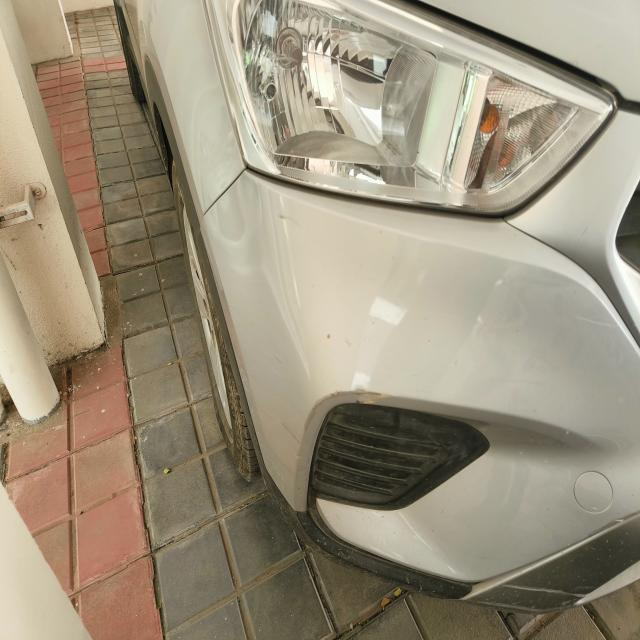scratch: (294, 376, 388, 454)
